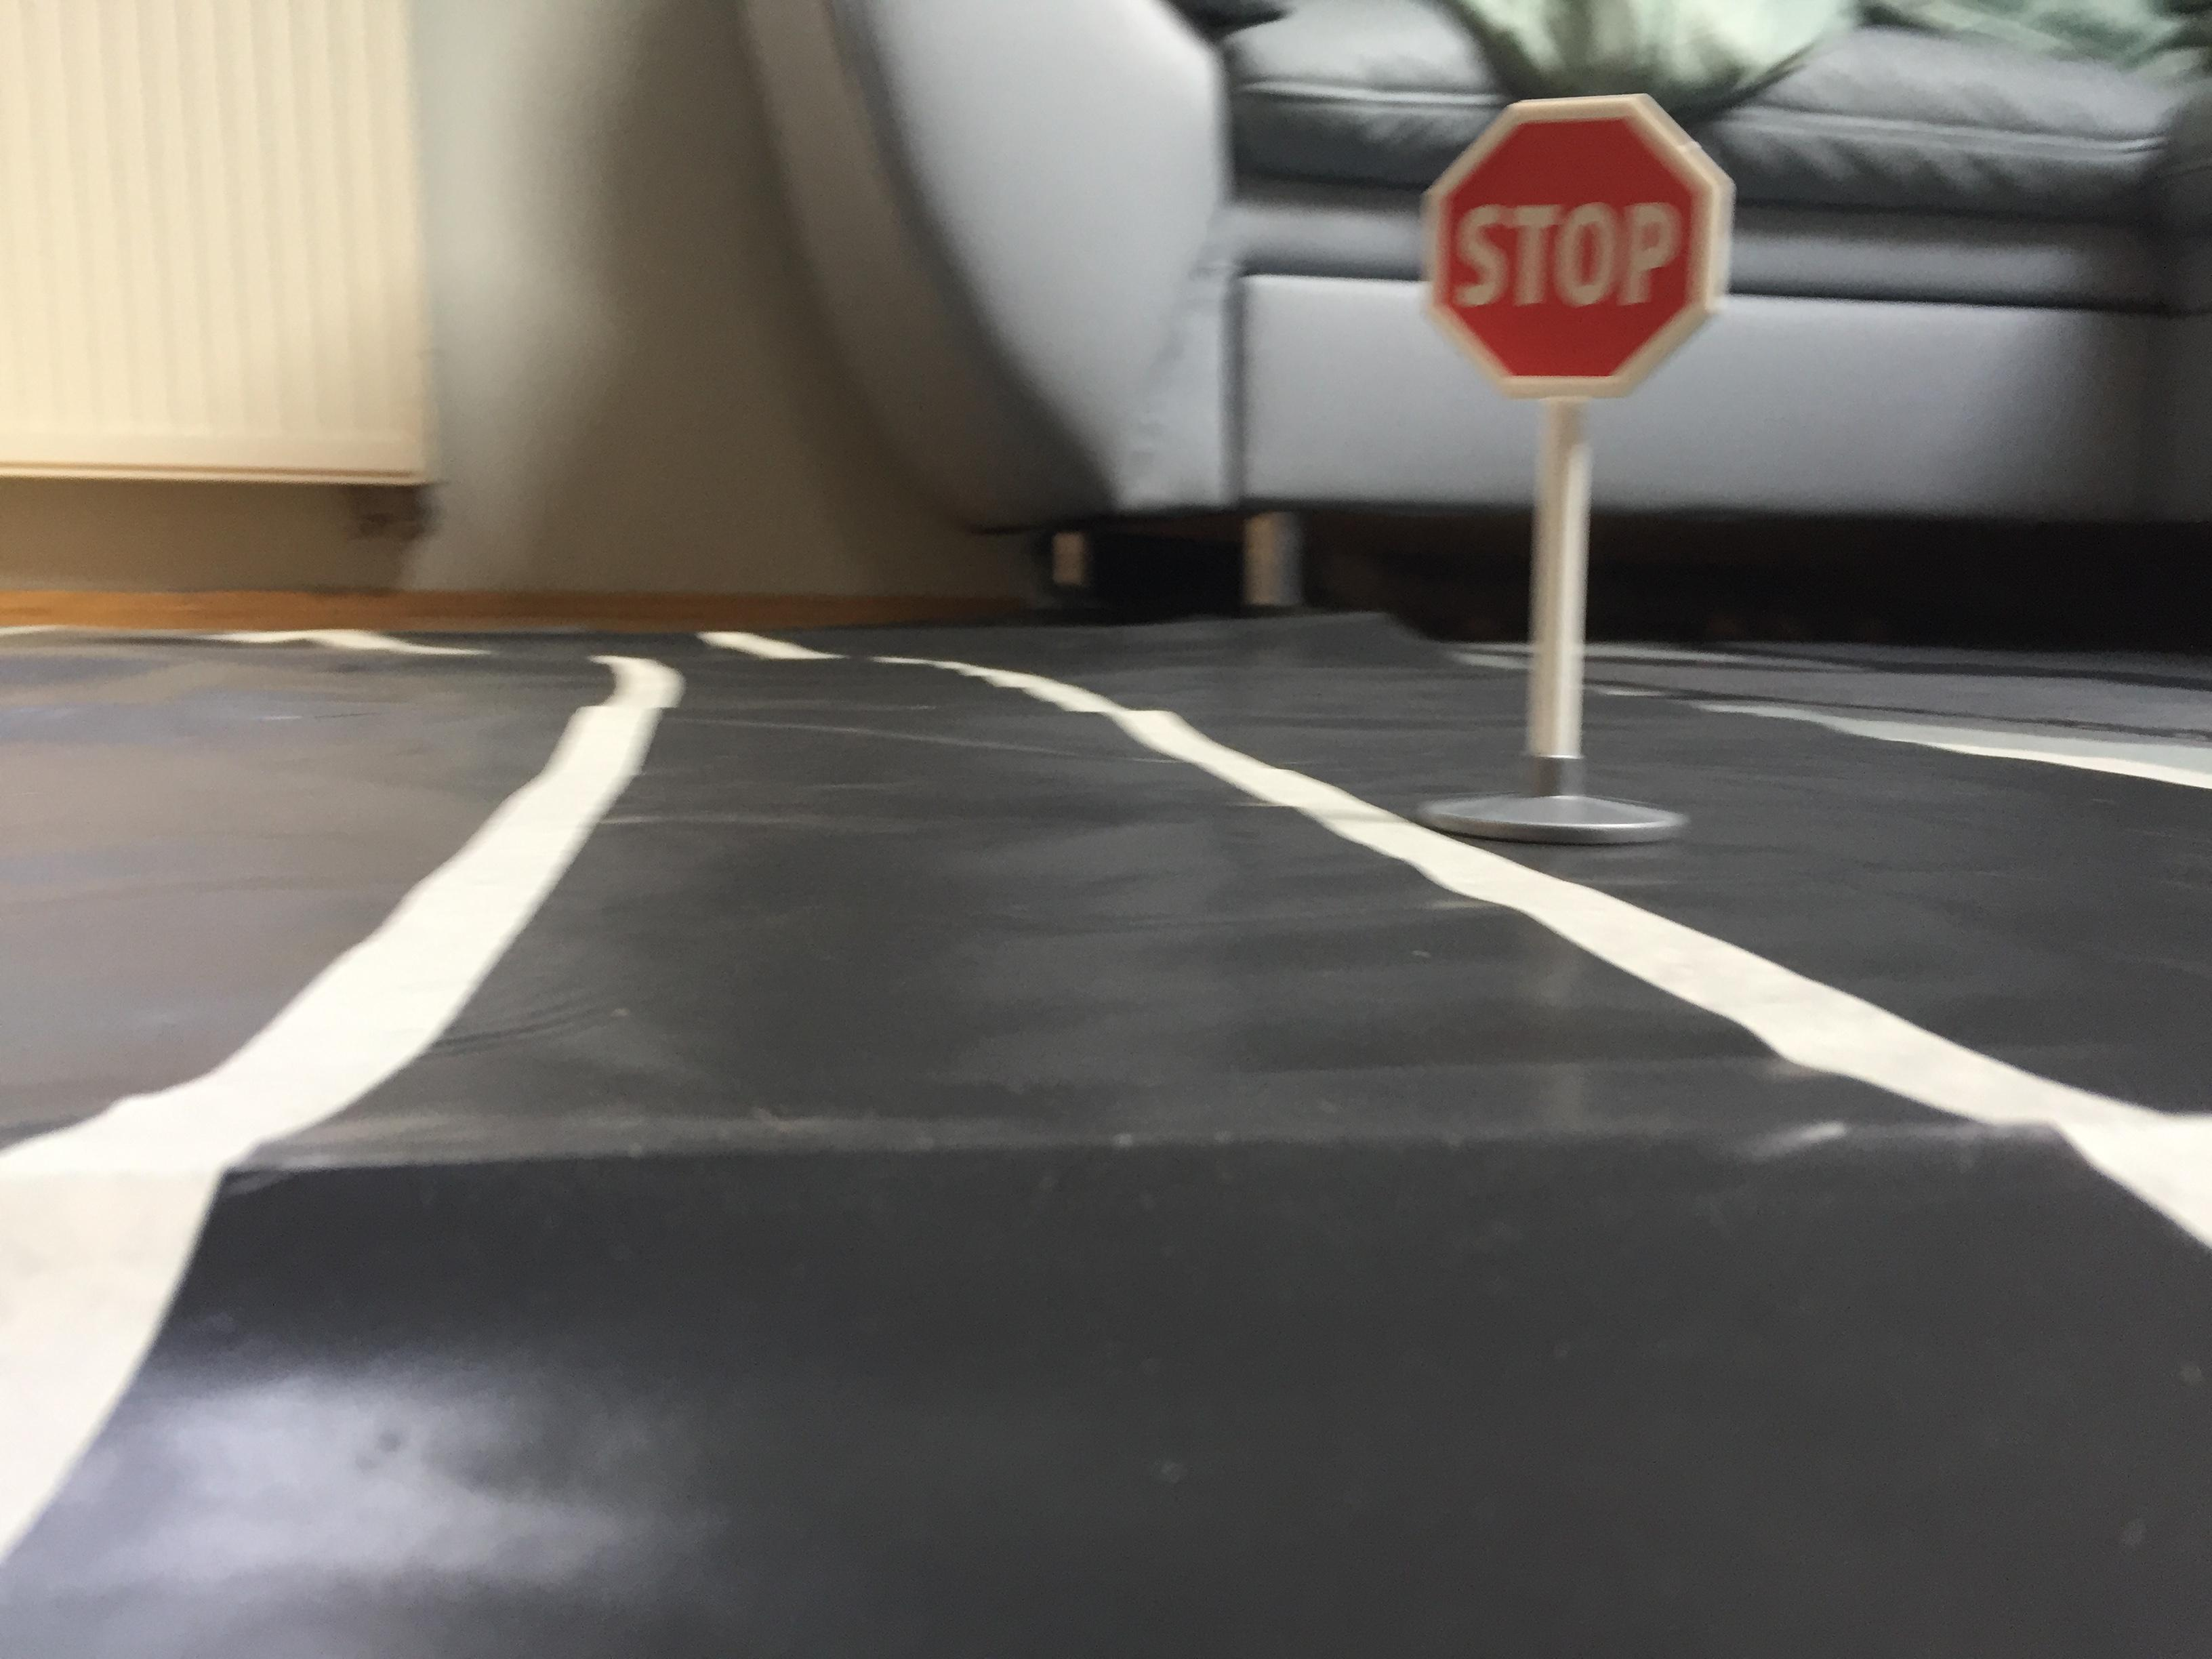stop: (1406, 82, 1735, 416)
